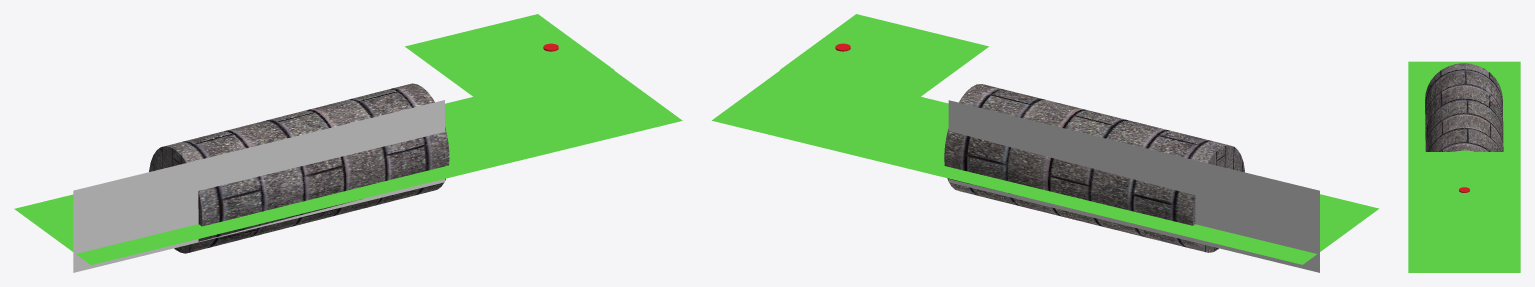
The picture shows the model from 3 angles, left to right: view 1: azimuth 30°, elevation 25°; view 2: azimuth 150°, elevation 25°; view 3: azimuth 270°, elevation 25°; orthographic projection. The views are drawn at different scales.
Visible parts, largest first — view 1: floor.001, tunnel, wall.001, floor; view 2: floor.001, wall, tunnel, floor; view 3: floor.001, tunnel, floor.
Part boxes in pixels (x1,y1,x2,y2): floor.001: (14,70,682,264); tunnel: (149,83,449,253); wall.001: (73,100,444,272); floor: (405,14,614,102); floor.001: (712,70,1378,264); wall: (948,100,1319,272); tunnel: (944,84,1244,252); floor: (780,14,988,102); floor.001: (1408,61,1520,272); tunnel: (1425,63,1503,151); floor: (1408,152,1520,199).
Size of the model in its own units: 446 by 79.68 by 100.
Materials: 4 (1 with a texture image).
